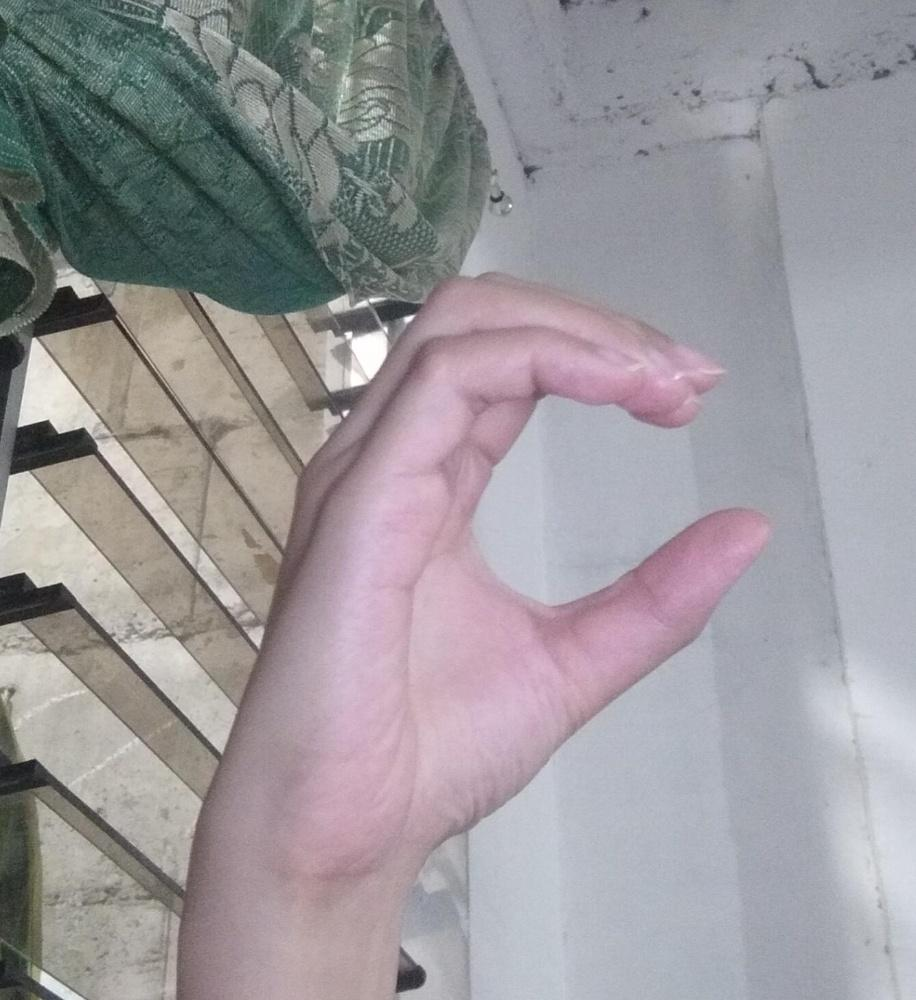c: (181, 267, 775, 893)
